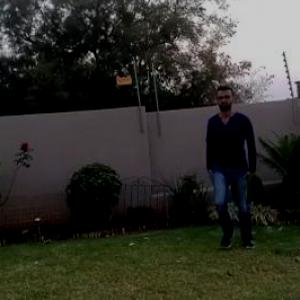follow: (204, 88, 256, 244)
